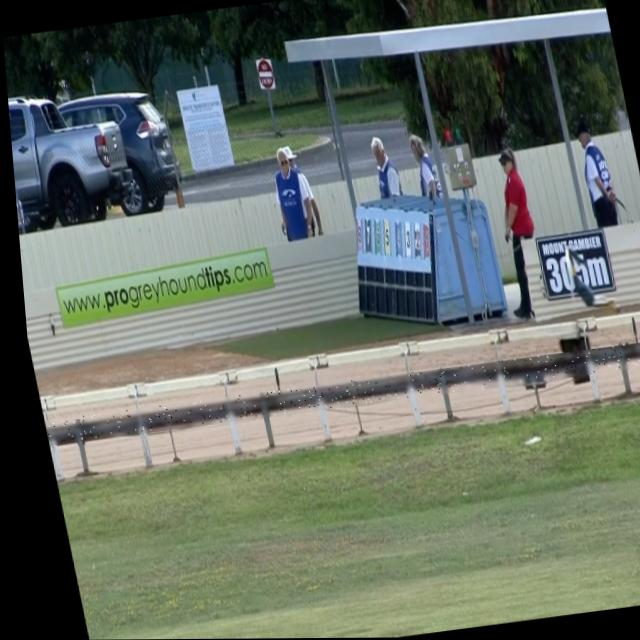rail: (39, 343, 640, 444)
